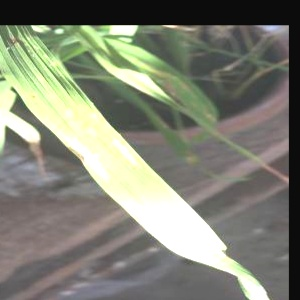Brown_Spot: (57, 125, 113, 178)
